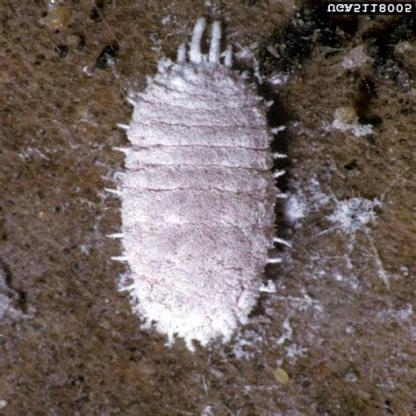mealy bug: (116, 23, 283, 347)
